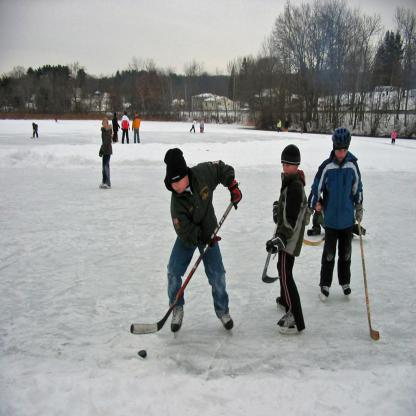face: (172, 173, 186, 194), (284, 160, 297, 177), (336, 145, 348, 160), (103, 122, 108, 129)
